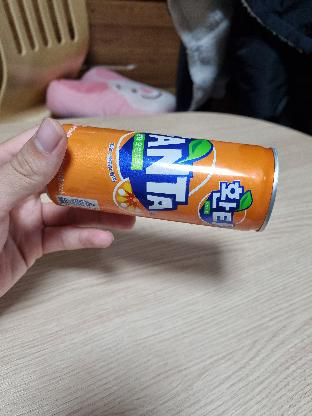Can: (41, 104, 275, 237)
